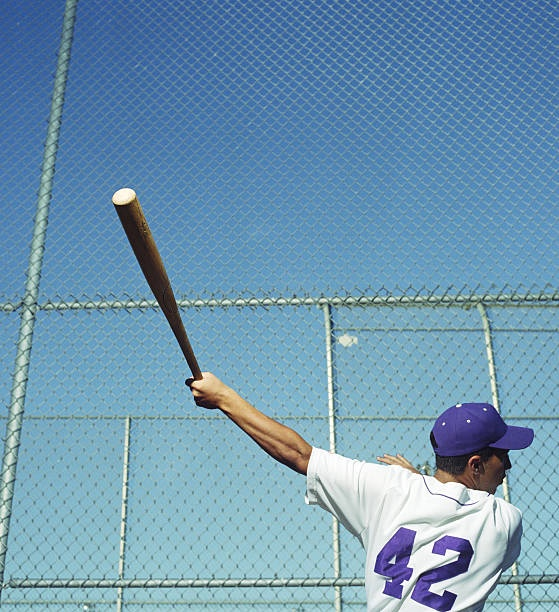bita: (108, 181, 199, 390)
